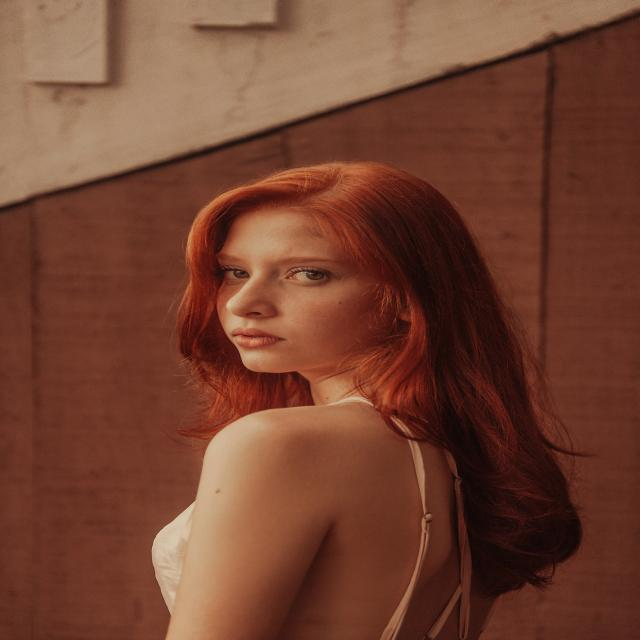adult: (144, 161, 561, 640)
